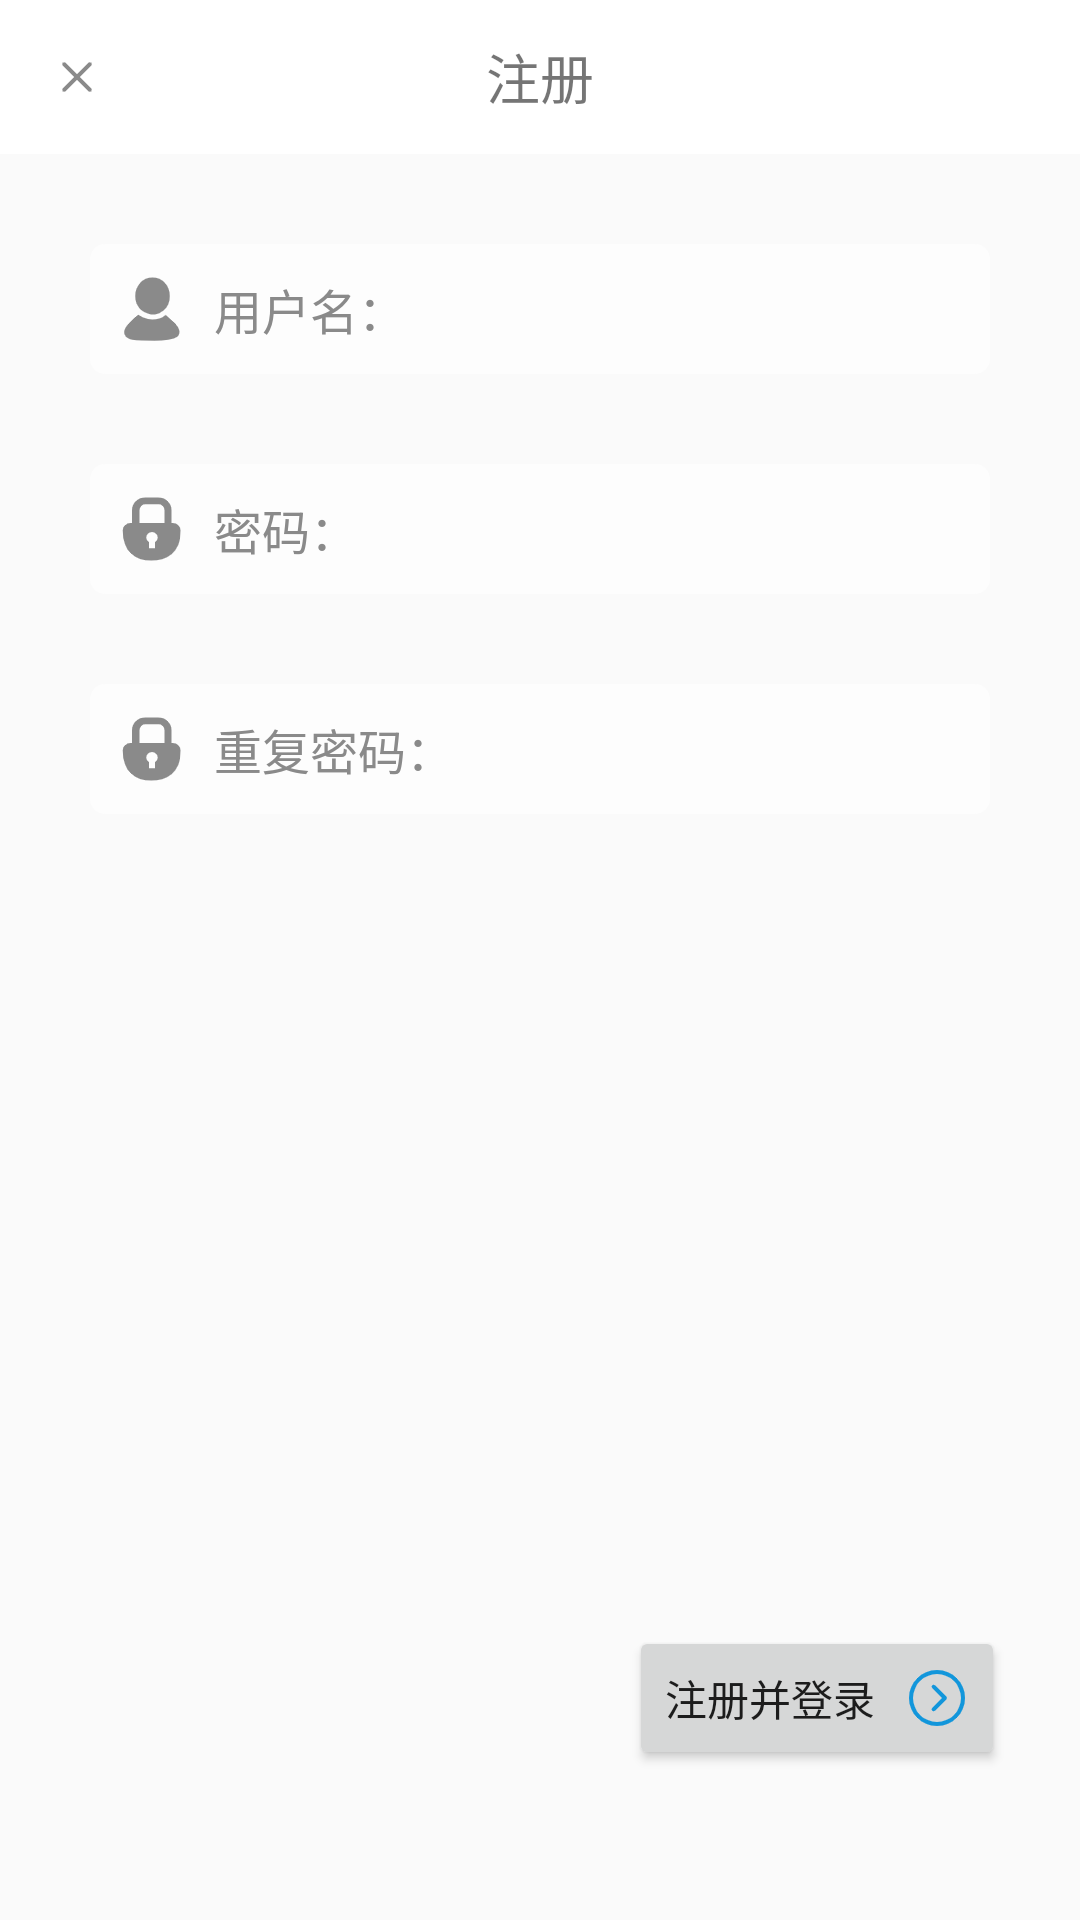

Where icons sit on this 1080px x 1920px app screen, as (x1, y1, x2, y2):
关闭按钮: (62, 62, 92, 92)
